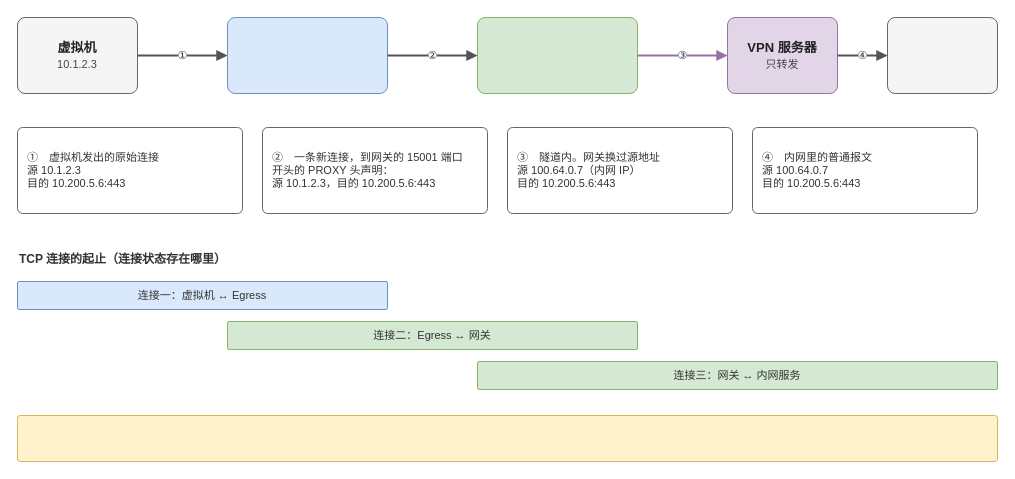
Image size: 1015x479. Some labels were removed from this diagram. The box of each missing label's shape, as (x1, y1, x2, y2) in pixels:
Egress Envoy：劫持、注入凭证: (226, 16, 388, 94)
VPN 网关 Envoy 四层代理 内核换源地址: (476, 16, 638, 94)
内网服务 10.200.5.6: (886, 16, 998, 94)
连接状态在 Egress 和网关两处。网关故障或切换时，连接二、连接三全部中断，业务要重连； 同一个地址块同一时刻只能由一台网关承载。: (16, 414, 998, 462)
